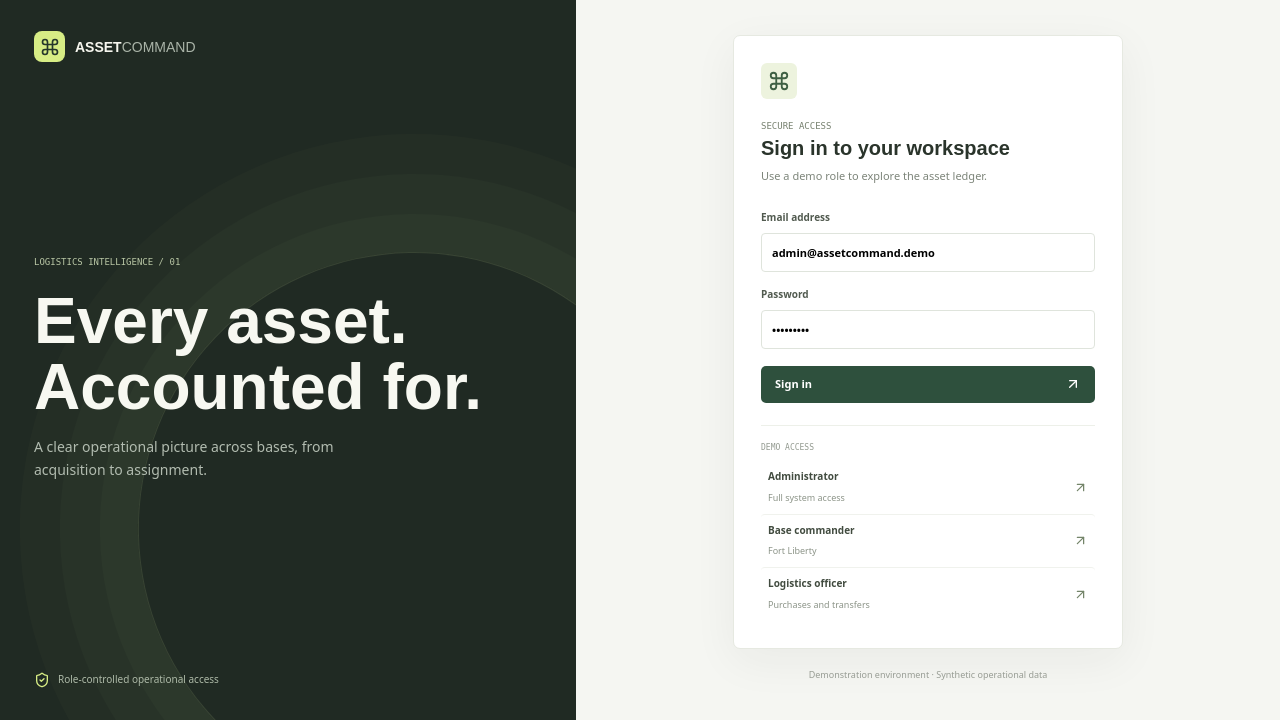
Test case: Asset Command UI › signs in and displays dashboard metrics and movement details
This screenshot has width=1280, height=720.
Click the button "Administrator Full system access" at (803, 476), box top-left (761, 461), bottom-right (1095, 514)
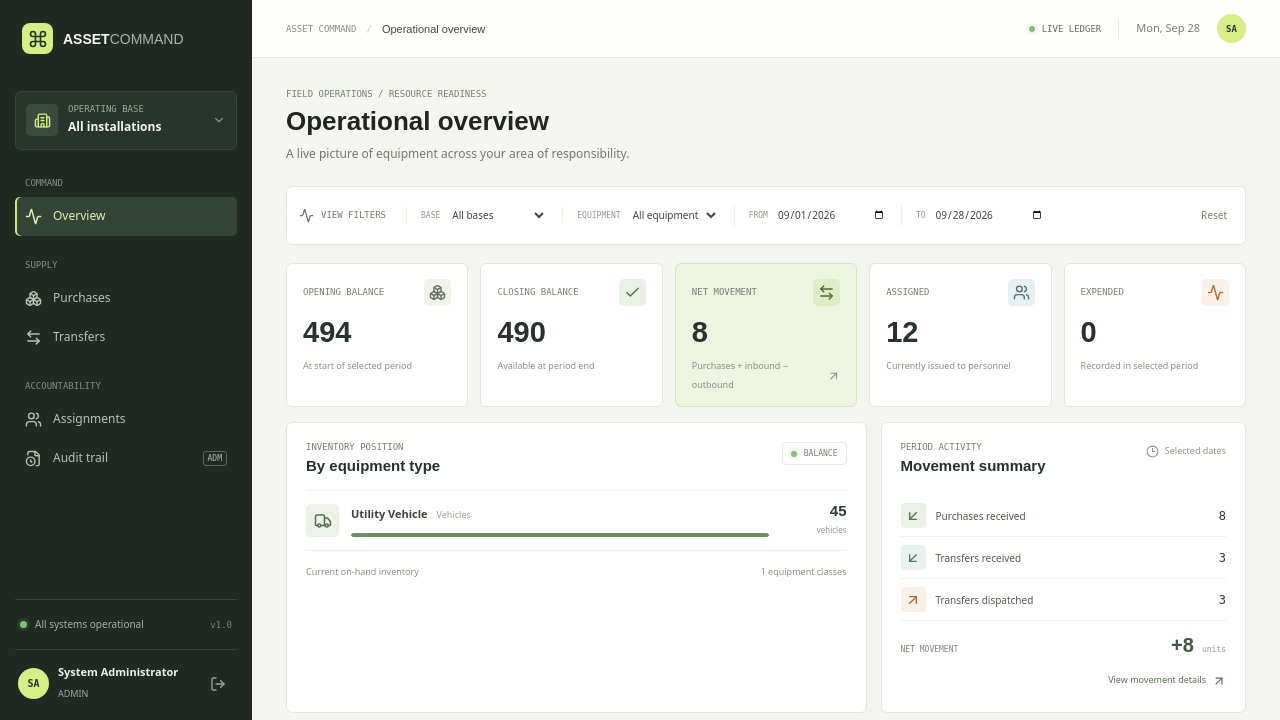
expect the heading "Operational overview" is shown: met, box top-left (286, 106), bottom-right (549, 136)
expect the text "494" is shown: met, box top-left (303, 316), bottom-right (351, 348)
expect the text "490" is shown: met, box top-left (497, 316), bottom-right (546, 348)
Click the button "NET MOVEMENT 8 Purchases + inbound − outbound" at (766, 335), box top-left (675, 263), bottom-right (857, 407)
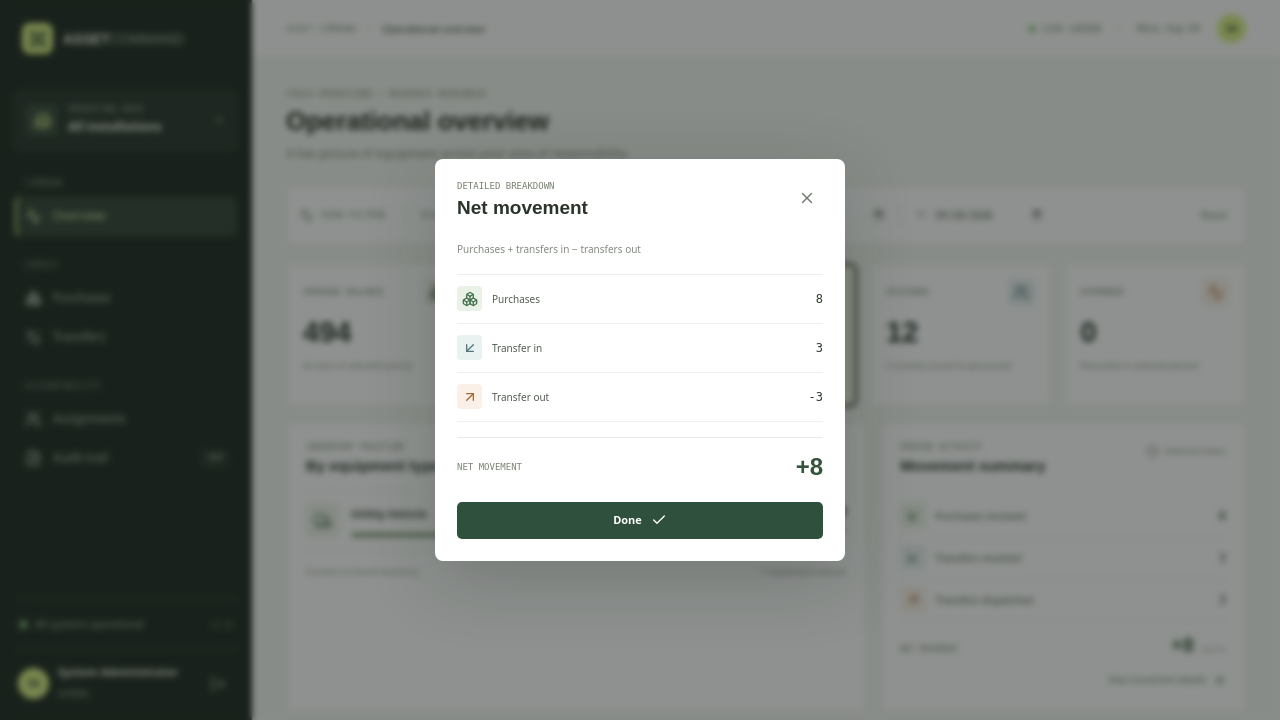
expect the text "Purchases" is shown: met, box top-left (492, 290), bottom-right (540, 308)
expect the text "Transfer in" is shown: met, box top-left (492, 338), bottom-right (542, 357)
expect the text "Transfer out" is shown: met, box top-left (492, 388), bottom-right (549, 406)
